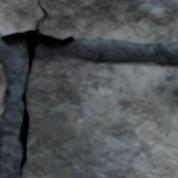brick: (22, 53, 177, 177), (0, 62, 6, 115)
broken_brick: (0, 0, 177, 44)
crack: (0, 2, 74, 175)
